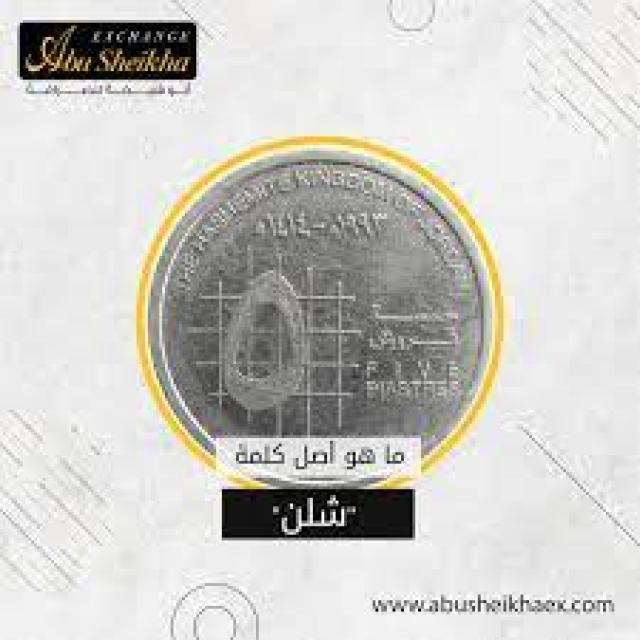5-coins: (147, 150, 496, 490)
